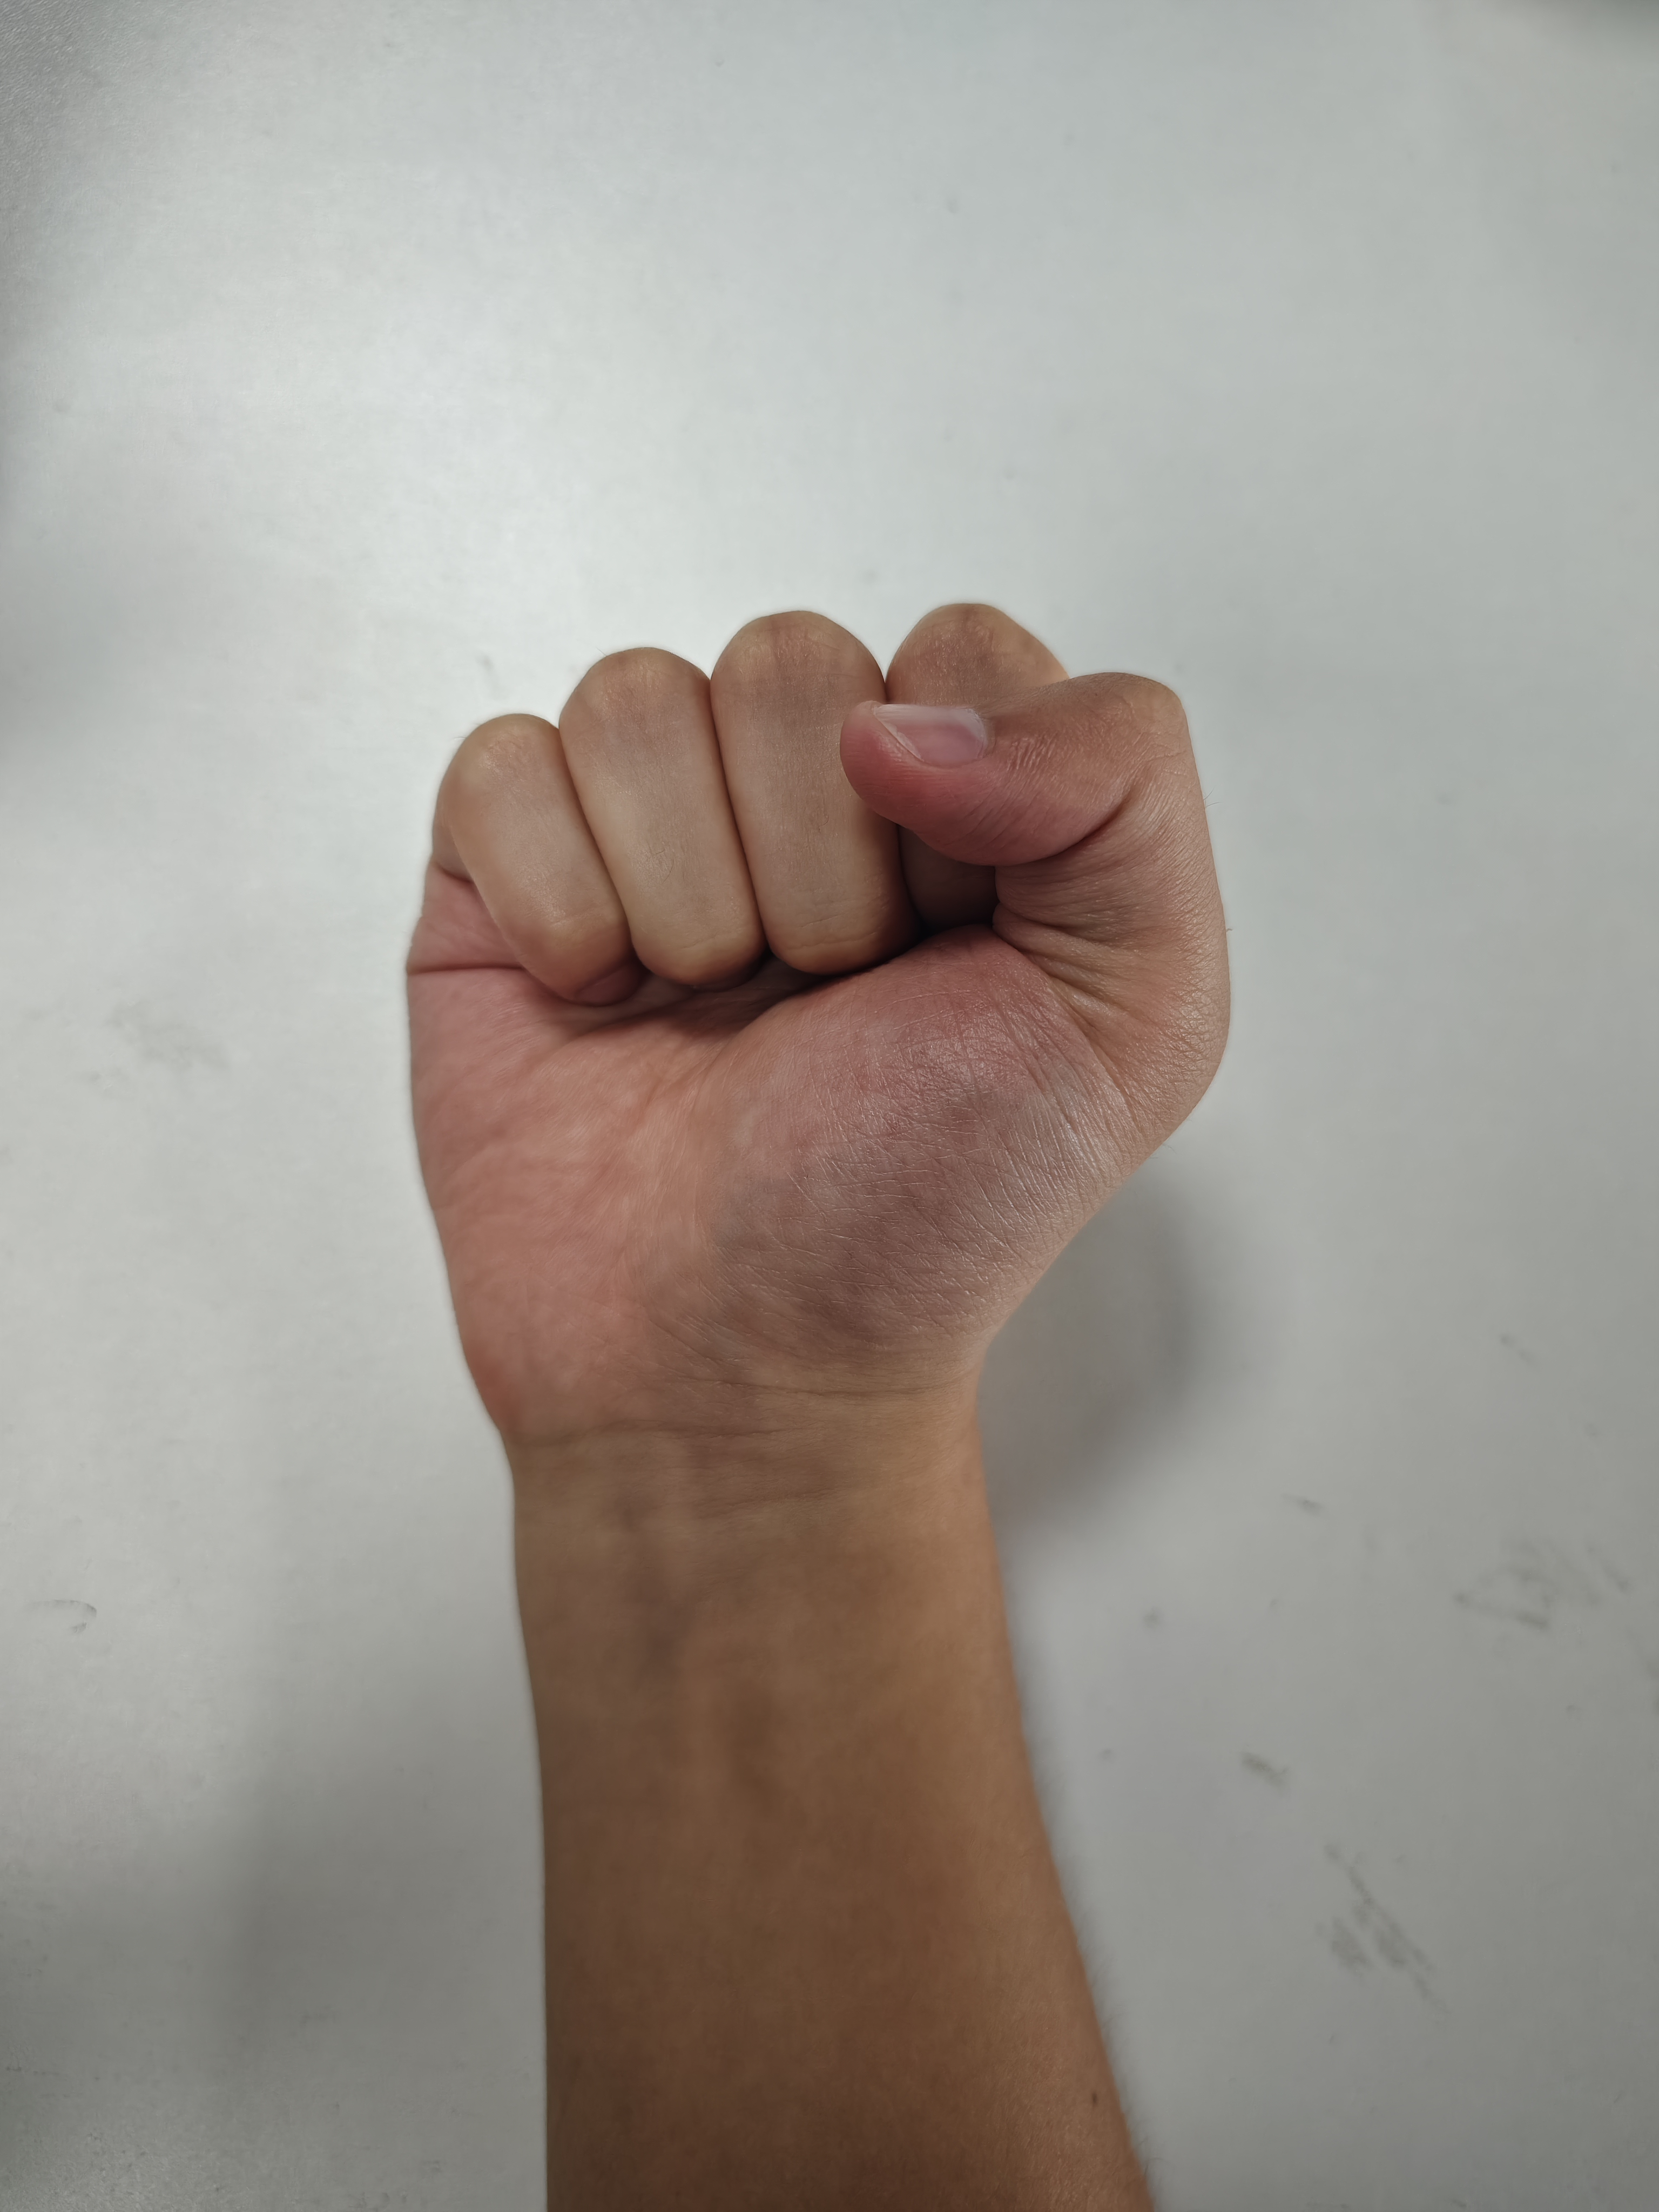mb: (383, 596, 1249, 1437)
